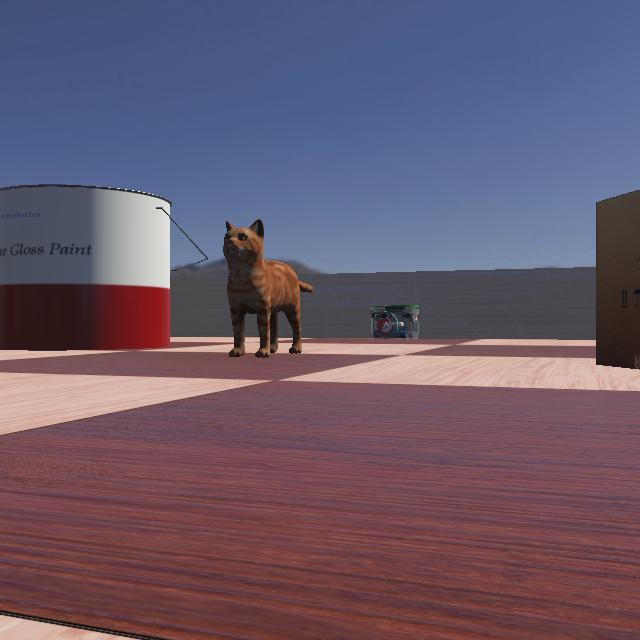cardboard-box: (595, 154, 639, 382)
cat: (213, 213, 314, 359), (213, 213, 314, 359), (213, 213, 314, 359)
paint-bucket: (0, 185, 216, 352), (0, 185, 216, 352)
